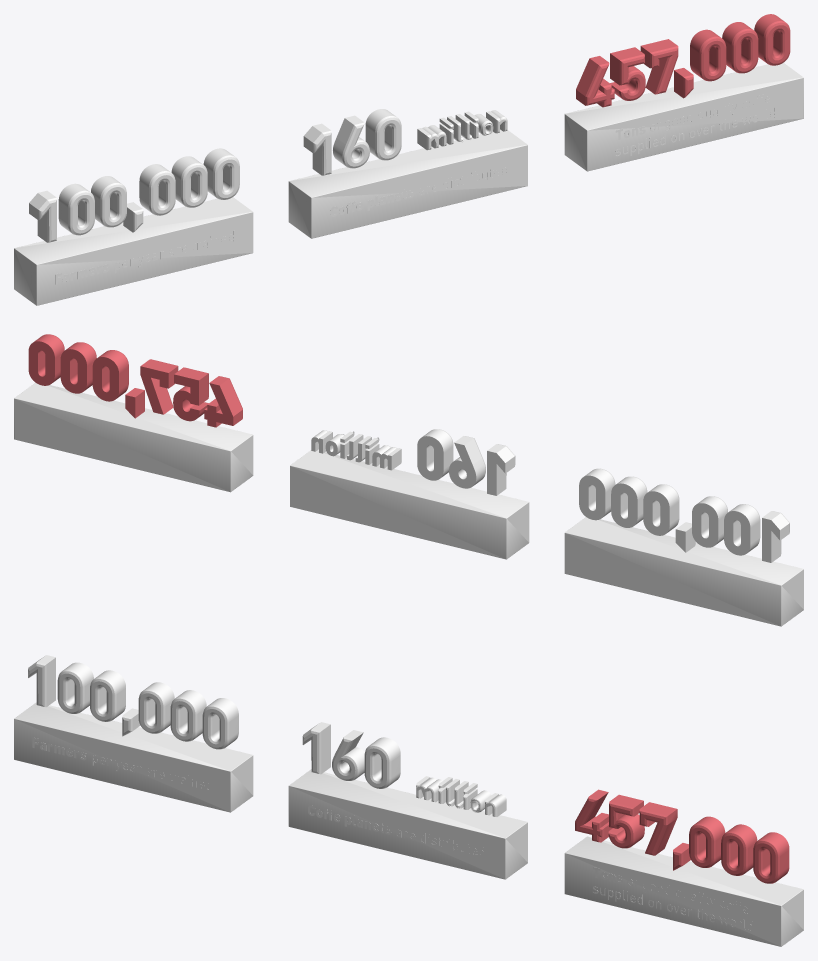
3 renders of one model, top to bottom at view 1: azimuth 30°, elevation 25°; view 2: azimuth 150°, elevation 25°; view 3: azimuth 330°, elevation 25°, orthographic.
Visible parts, largest first — view 1: Cube.5 (×3), Rounding (×13), MoText.10 (×3), 457,, 100,; view 2: Cube.5 (×3), Cap 2 (×15), MoText.10 (×3), 457,, 100,; view 3: Cube.5 (×3), Rounding (×11), MoText.10 (×3), 100,, 457,.
Boxes of the visible parts, x1,y1,x2,y2 form: Cube.5 (×3): (14, 63, 803, 305); Rounding (×13): (68, 21, 790, 235); MoText.10 (×3): (139, 14, 784, 212); 457,: (576, 39, 677, 106); 100,: (29, 176, 121, 242); Cube.5 (×3): (14, 382, 803, 626); Cap 2 (×15): (28, 341, 779, 562); MoText.10 (×3): (33, 334, 678, 532); 457,: (141, 359, 242, 427); 100,: (697, 496, 789, 562); Cube.5 (×3): (14, 702, 803, 946); Rounding (×11): (57, 669, 779, 883); MoText.10 (×3): (144, 682, 789, 880); 100,: (30, 655, 125, 718); 457,: (586, 789, 677, 855).
Size of the model in its own units: 3892 by 474 by 201.
